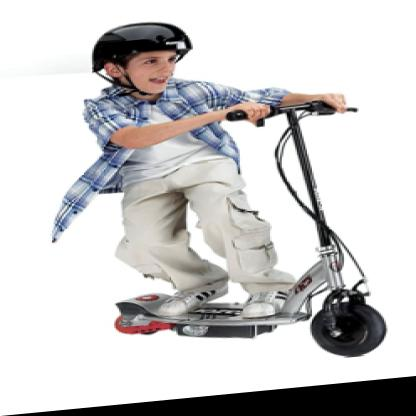With Helmet: (80, 17, 198, 108)
